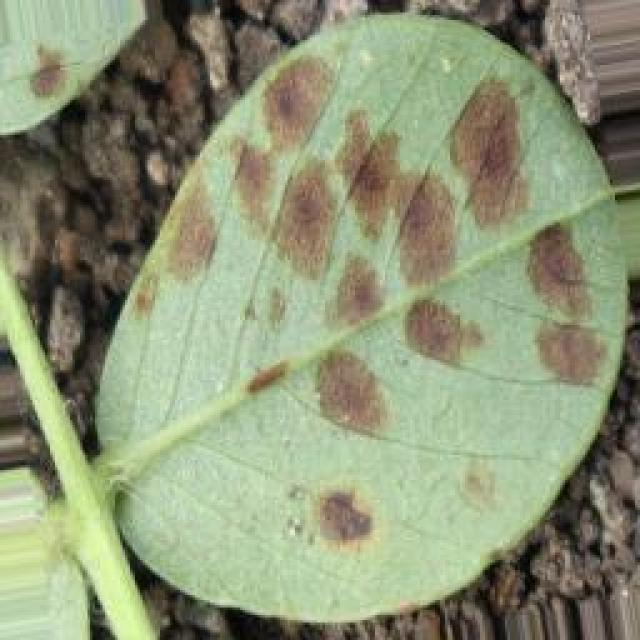Whitefly: (15, 0, 623, 588)
